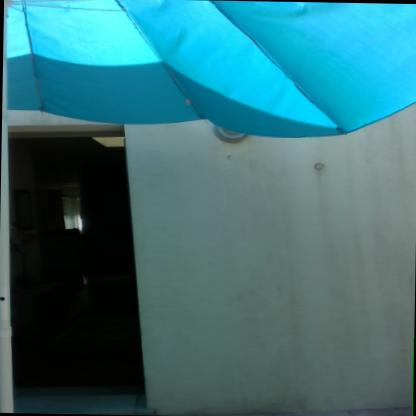open: (0, 118, 160, 413)
